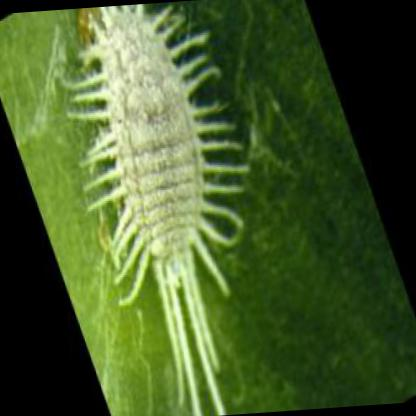mealy bug: (74, 6, 235, 410)
